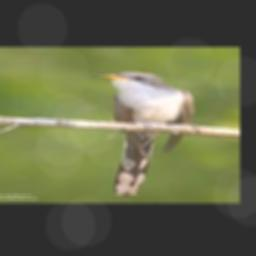Cuckoo: (90, 72, 193, 196)
